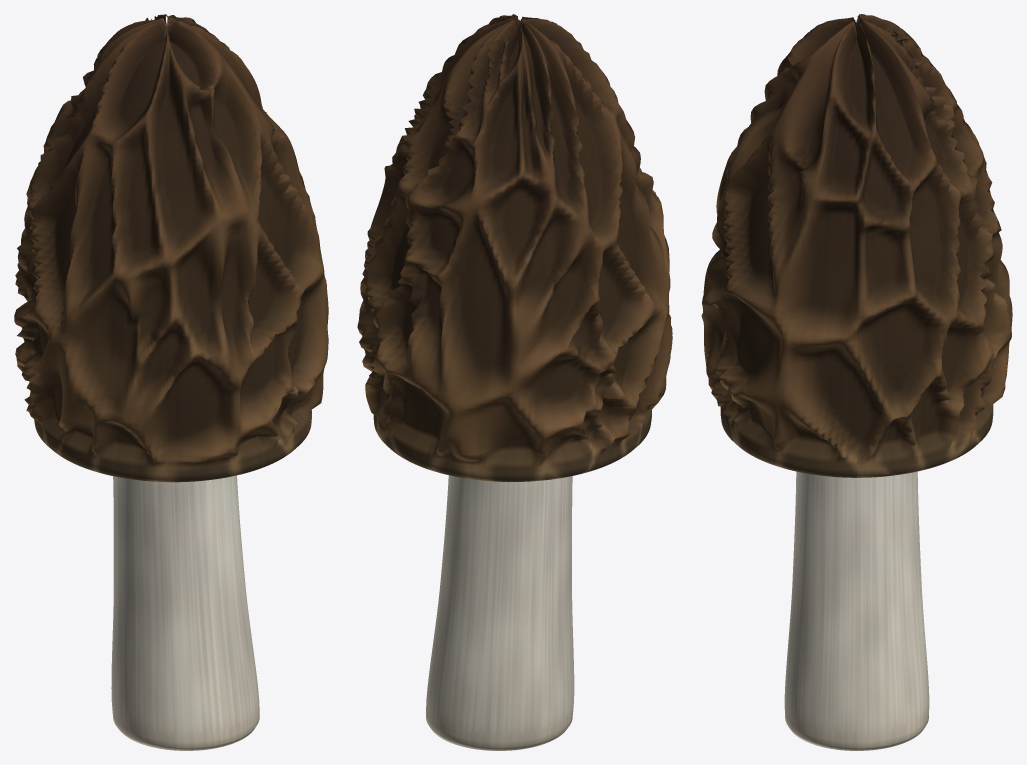
Rendered from morchella-drawn.glb.
3 renders of one model, left to right at view 1: azimuth 30°, elevation 25°; view 2: azimuth 150°, elevation 25°; view 3: azimuth 270°, elevation 25°, orthographic. The views are drawn at different scales.
Size of the model in its own units: 0.4062 by 1.01 by 0.4089.
Materials: 1 (1 with a texture image).
